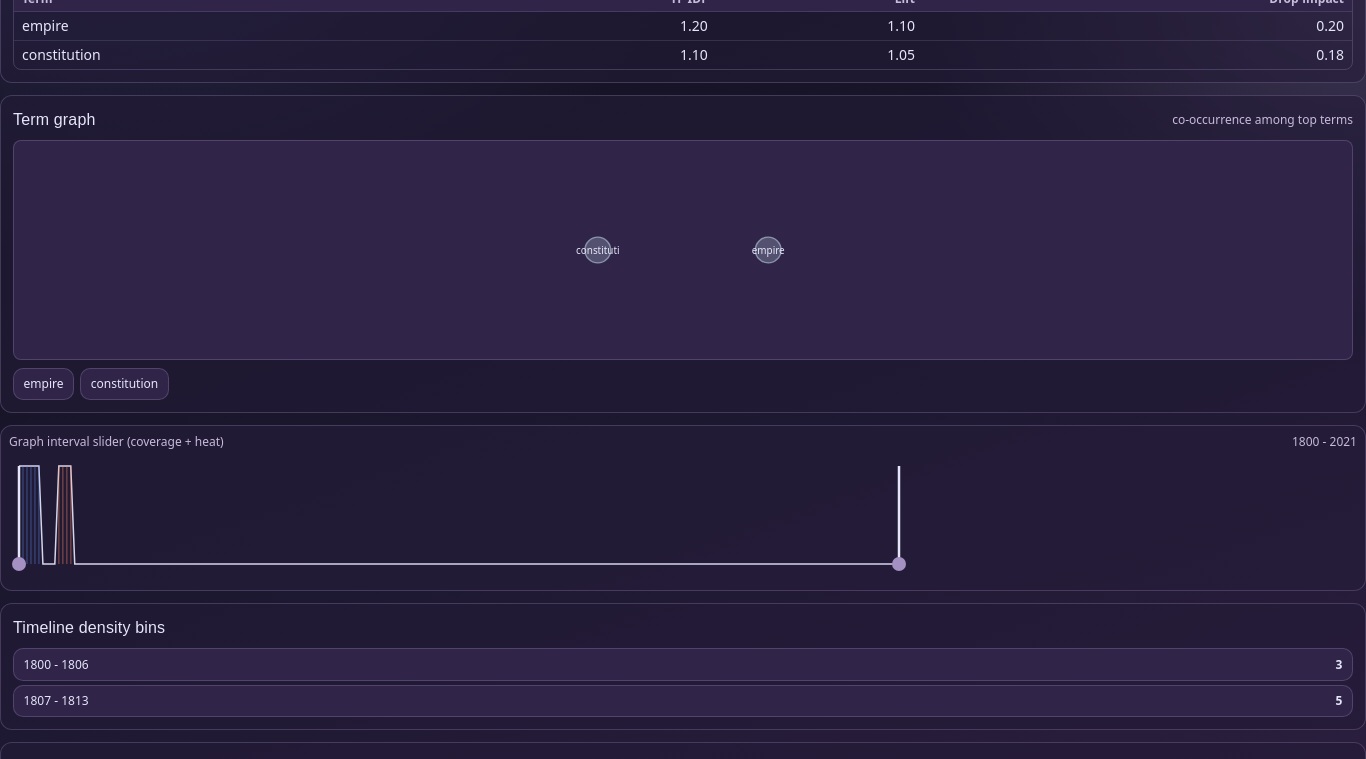
Test: ClusterDetail › filters episode table when clicking a graph term node
The width and height of the screenshot is (1366, 759).
(page scrolled)
Click the button with aria-label "term node empire" at (44, 384), box [13,368,74,400]
(page scrolled)
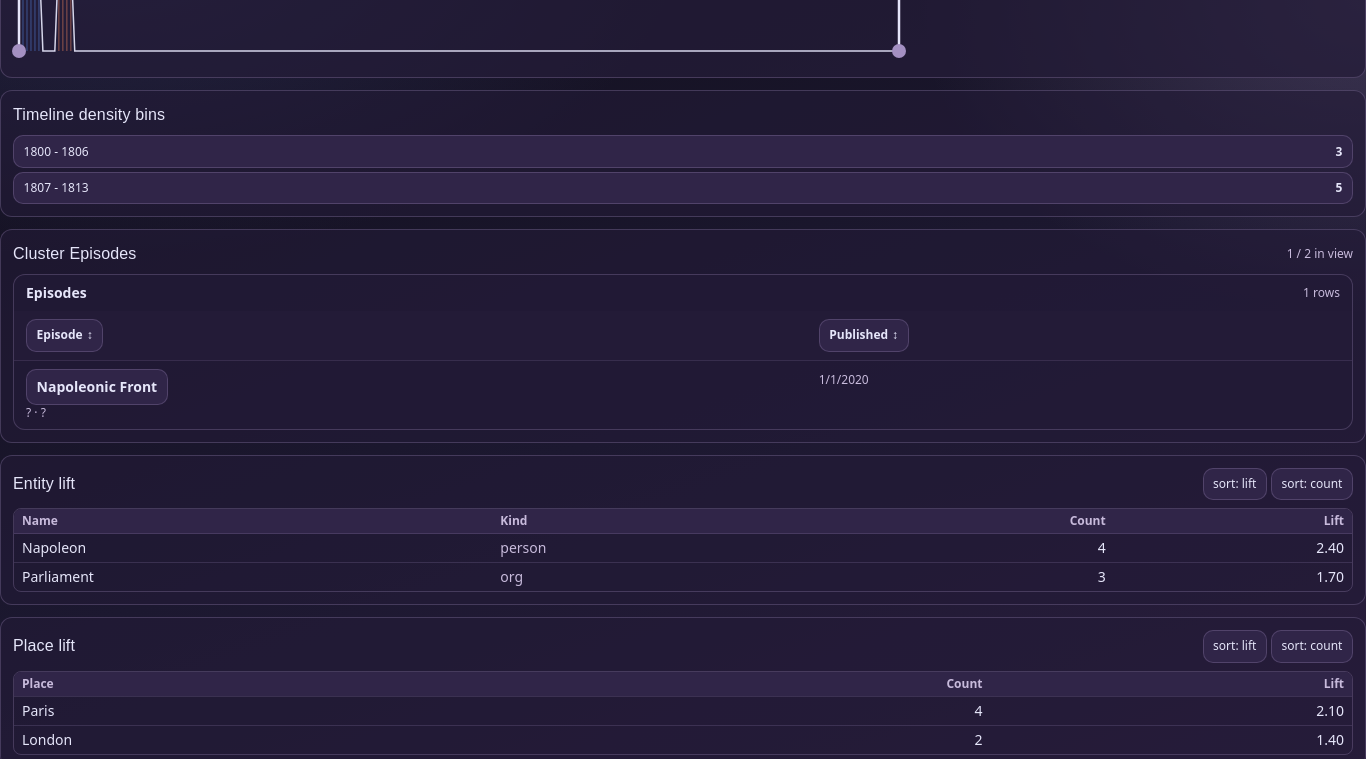
Now the text "1 / 2 in view" is shown, box [1287,246,1353,262]
Now the button "Napoleonic Front" is shown, box [26,368,168,405]
